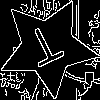T: (23, 22, 70, 77)
